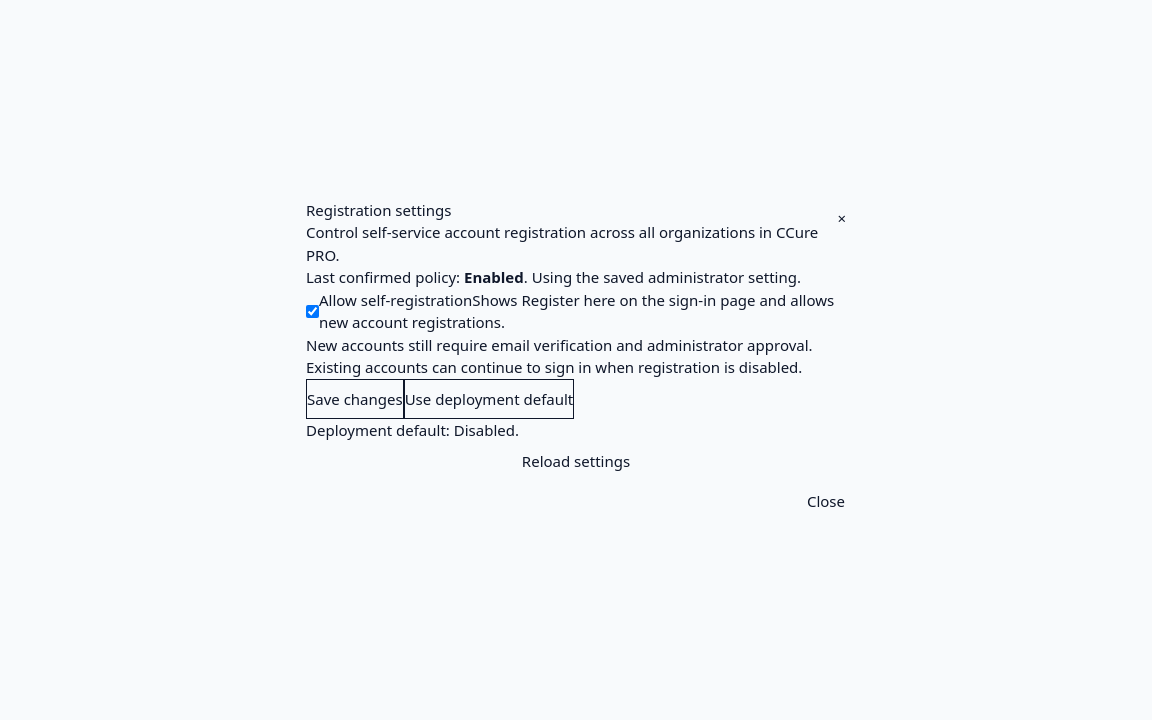
Registration Settings › resets to the deployment default with an explicit null override
Click the button "Use deployment default". click: x=489, y=399
box: top-left (404, 379), bottom-right (574, 419)
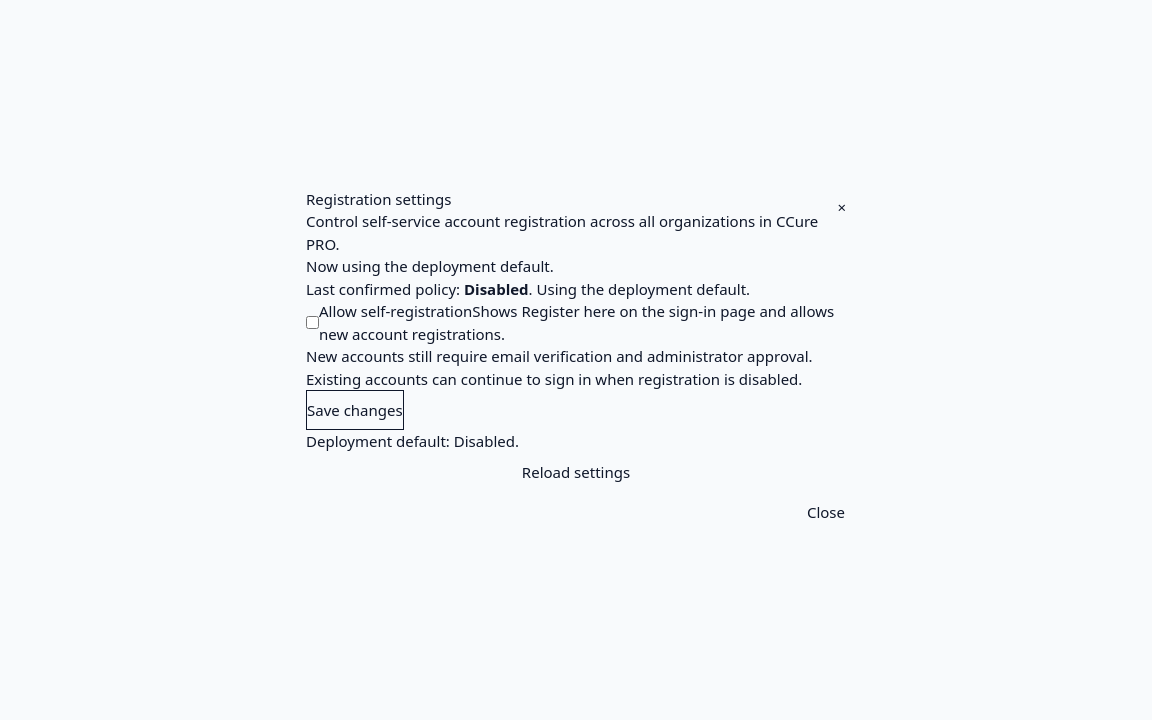
Now the text "Now using the deployment default." is shown, box top-left (306, 256), bottom-right (554, 276)
Now the button "Use deployment default" is gone
